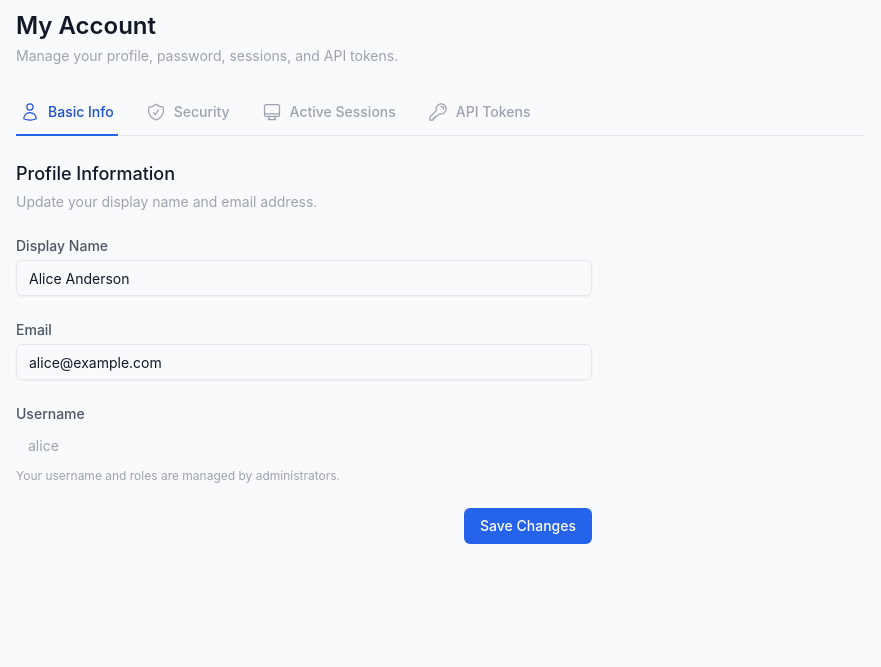
Scenario: ProfilePage — Basic Info tab › shows a success message and updates the auth store on success
The width and height of the screenshot is (881, 667).
What coordinates should you click on to do the following:
click the button "Save Changes"
I would click on:
 (528, 526)
Its box is top-left (464, 508), bottom-right (592, 544).
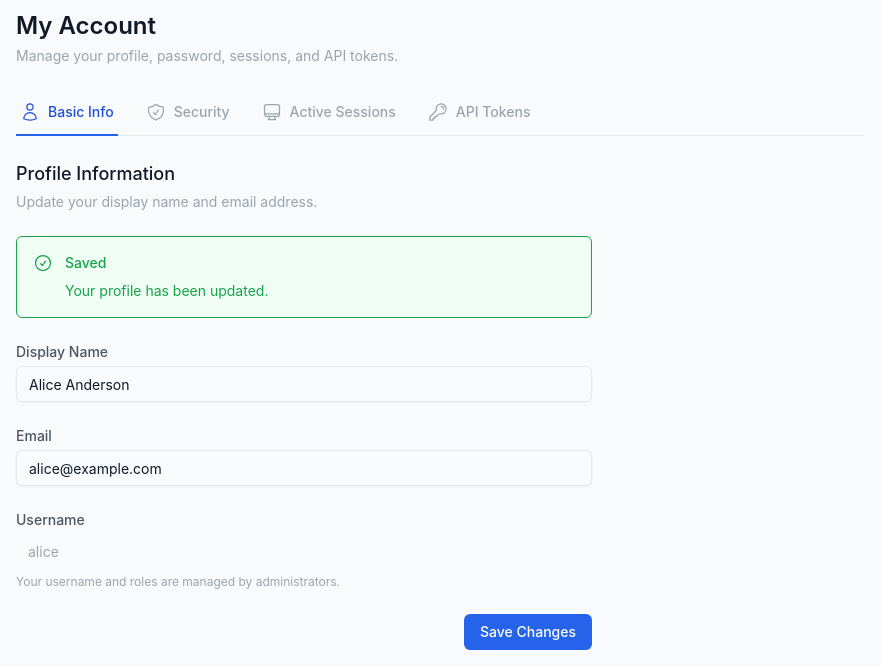
Check: the heading "Saved" is shown, box top-left (65, 254), bottom-right (106, 271)
